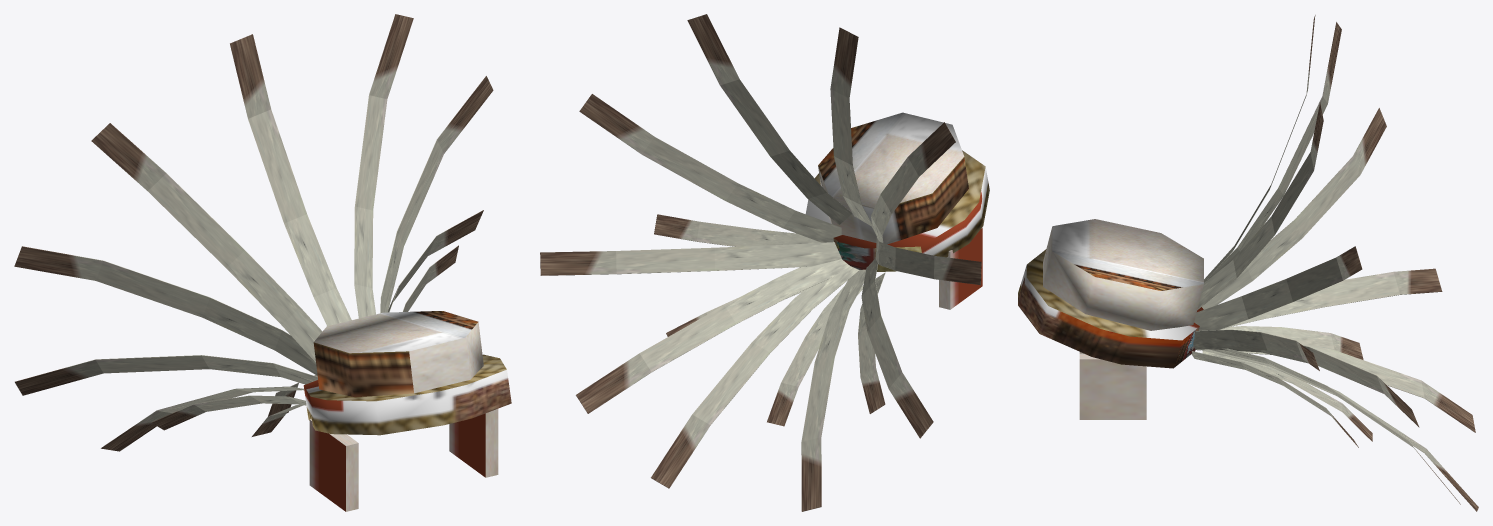
3 views of the same model, side by side, from view 1: azimuth 30°, elevation 25°; view 2: azimuth 150°, elevation 25°; view 3: azimuth 270°, elevation 25° (orthographic). The views are drawn at different scales.
Parts seen in each view (by area): view 1: helmet_n_2_4; view 2: helmet_n_2_4; view 3: helmet_n_2_4.
Part boxes in pixels (bbox=[...]): helmet_n_2_4: bbox=[14, 14, 511, 511]; helmet_n_2_4: bbox=[540, 14, 989, 511]; helmet_n_2_4: bbox=[1018, 15, 1478, 511].
Size of the model in its own units: 1.65 by 1.48 by 1.57.
